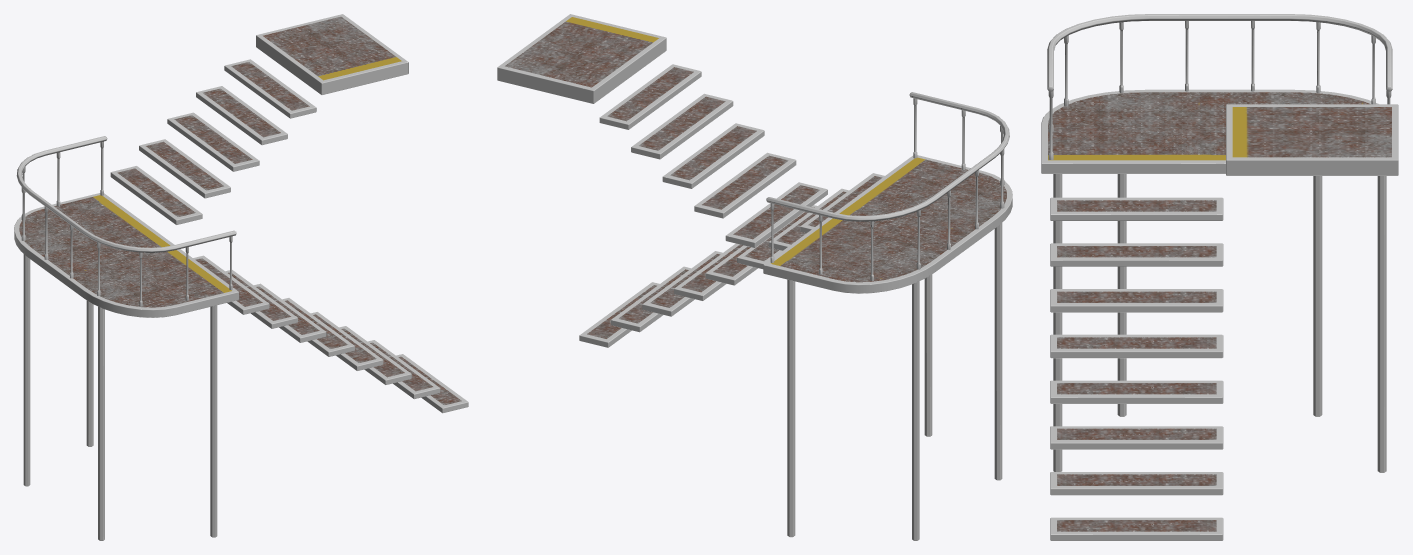
Rendered from msp_floor_scaffolding_stairs.fbx.
The picture shows the model from 3 angles, left to right: view 1: azimuth 30°, elevation 25°; view 2: azimuth 150°, elevation 25°; view 3: azimuth 270°, elevation 25°; orthographic projection. The views are drawn at different scales.
Parts seen in each view (by area): view 1: msp_floor_scaffolding_stairs; view 2: msp_floor_scaffolding_stairs; view 3: msp_floor_scaffolding_stairs.
Boxes of the visible parts, x1=… form: msp_floor_scaffolding_stairs: x1=14, y1=14, x2=468, y2=540; msp_floor_scaffolding_stairs: x1=497, y1=14, x2=1012, y2=540; msp_floor_scaffolding_stairs: x1=1041, y1=14, x2=1398, y2=540.
Bounding box in the file's own units: 6.22 × 6.09 × 4.14.
